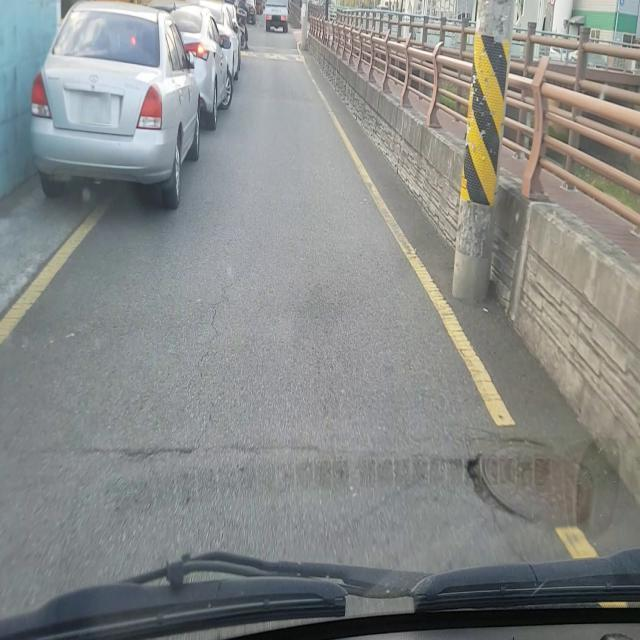pothole: (464, 434, 597, 530)
